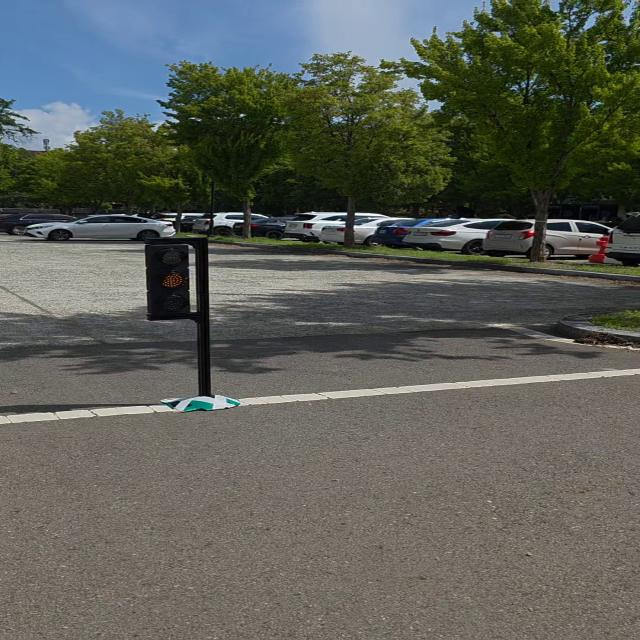yellow: (139, 236, 196, 322)
